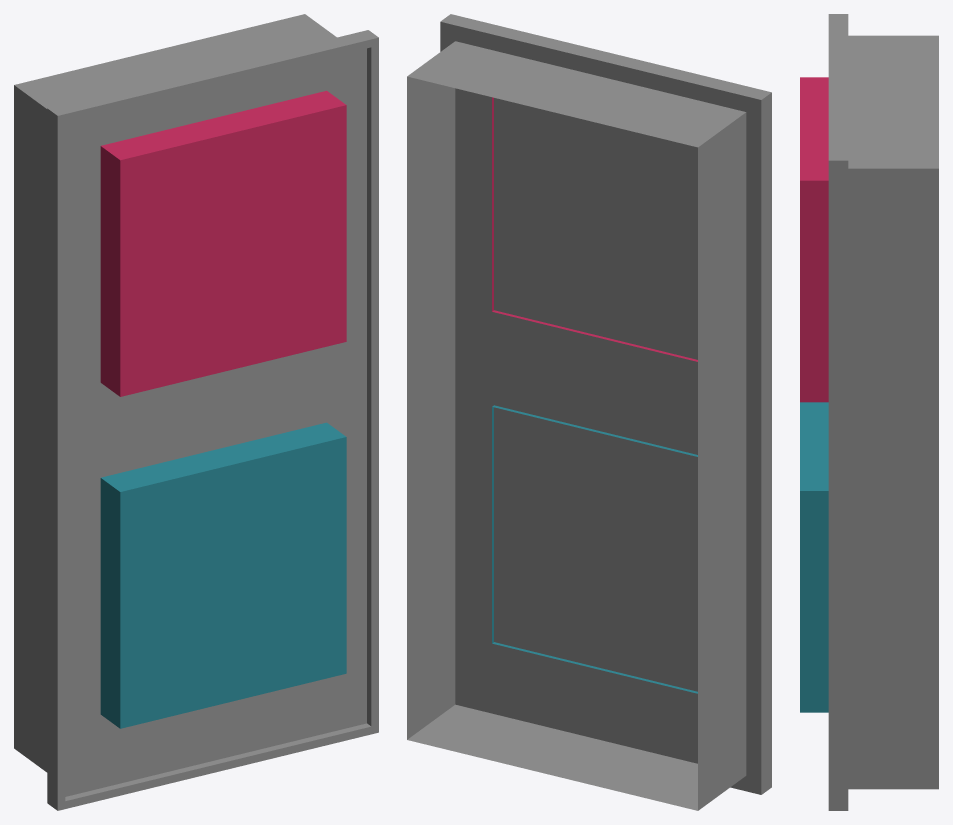
The model's file is buttonexample.fbx.
The picture shows the model from 3 angles, left to right: view 1: azimuth 30°, elevation 25°; view 2: azimuth 150°, elevation 25°; view 3: azimuth 270°, elevation 25°; orthographic projection. The views are drawn at different scales.
Parts seen in each view (by area): view 1: button switch Test; view 2: button switch Test; view 3: button switch Test.
Part boxes in pixels (x1=…): button switch Test: x1=14, y1=14, x2=378, y2=810; button switch Test: x1=407, y1=14, x2=771, y2=810; button switch Test: x1=800, y1=14, x2=938, y2=810.
Size of the model in its own units: 2.13 by 0.8515 by 4.4.
